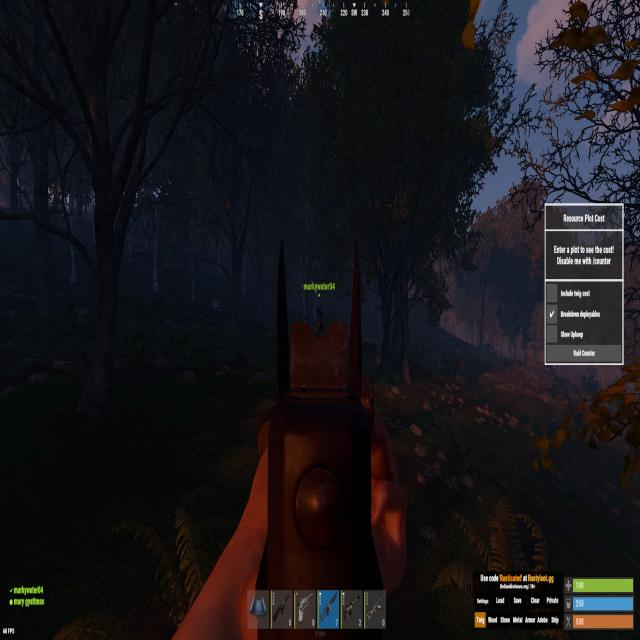Player: (316, 303, 323, 339)
